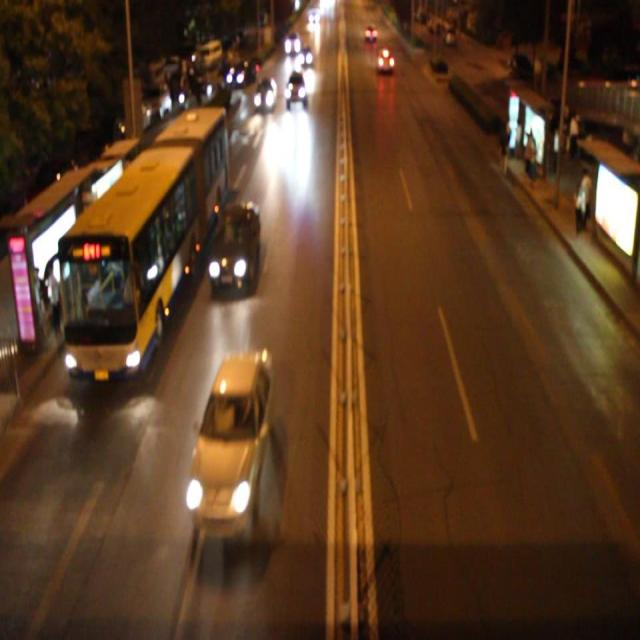car: (186, 348, 274, 535), (208, 199, 261, 295), (253, 75, 278, 115), (283, 68, 308, 106)
van: (54, 102, 219, 376)
